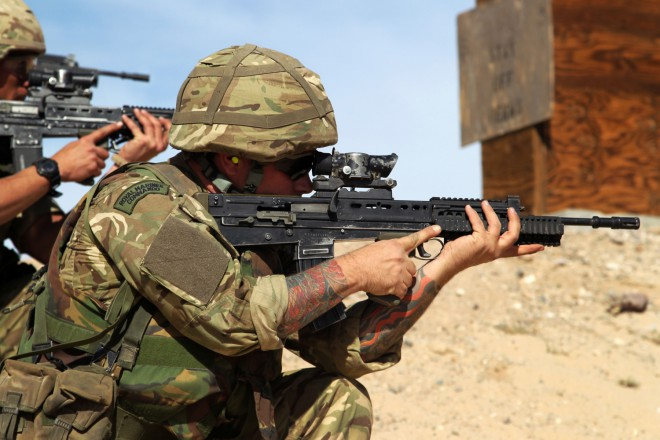Gun: (309, 171, 587, 262), (38, 53, 175, 127)
